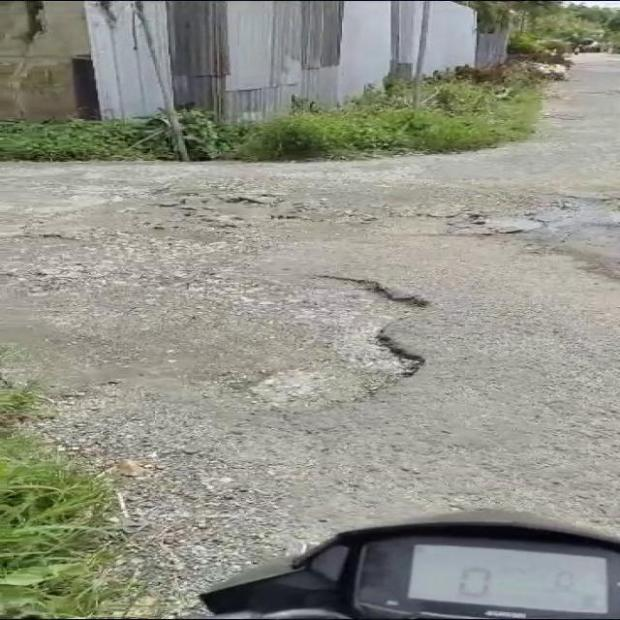lubang: (215, 278, 422, 419), (79, 165, 377, 239), (412, 187, 619, 270)
